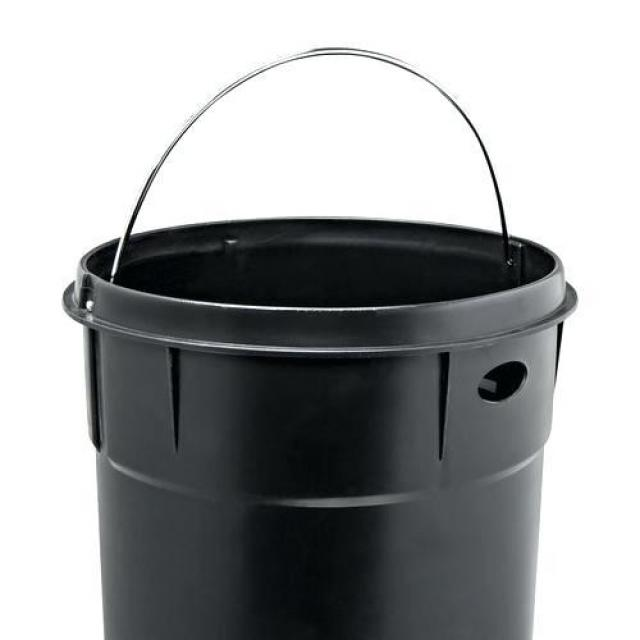plastic_bag: (32, 31, 627, 640)
